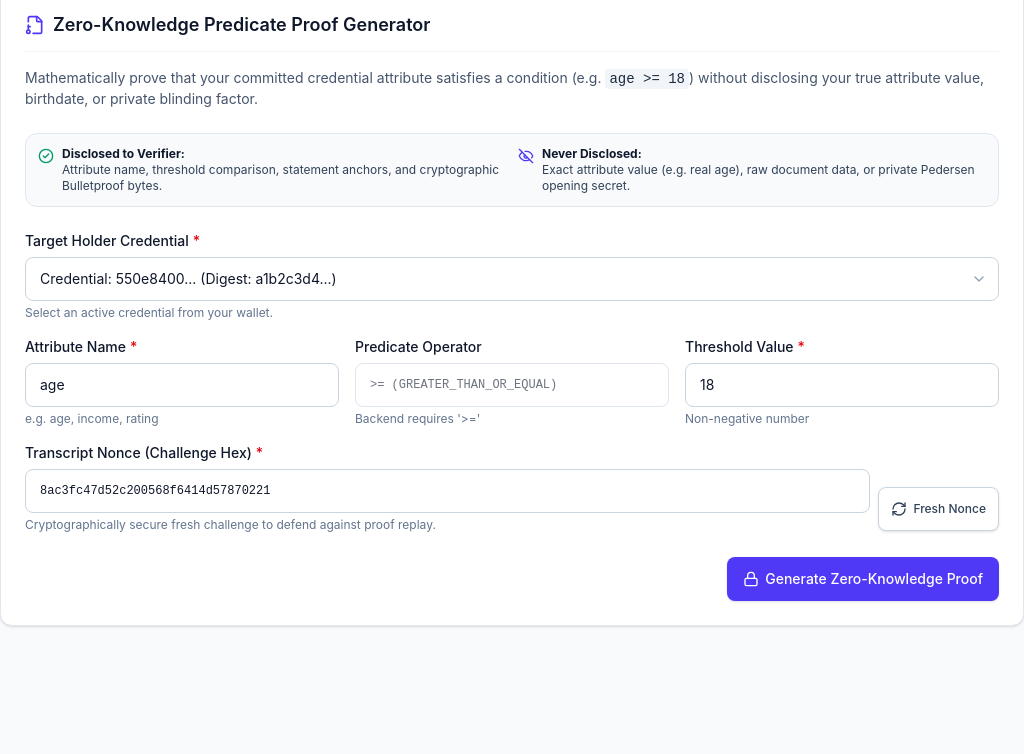
Holder Workflows & UI Components › PredicateProofGeneratorCard › generates zero-knowledge Bulletproof proof and displays artifact
Click the button "Generate Zero-Knowledge Proof".
click(863, 579)  # box [727,557,999,601]
(page scrolled)
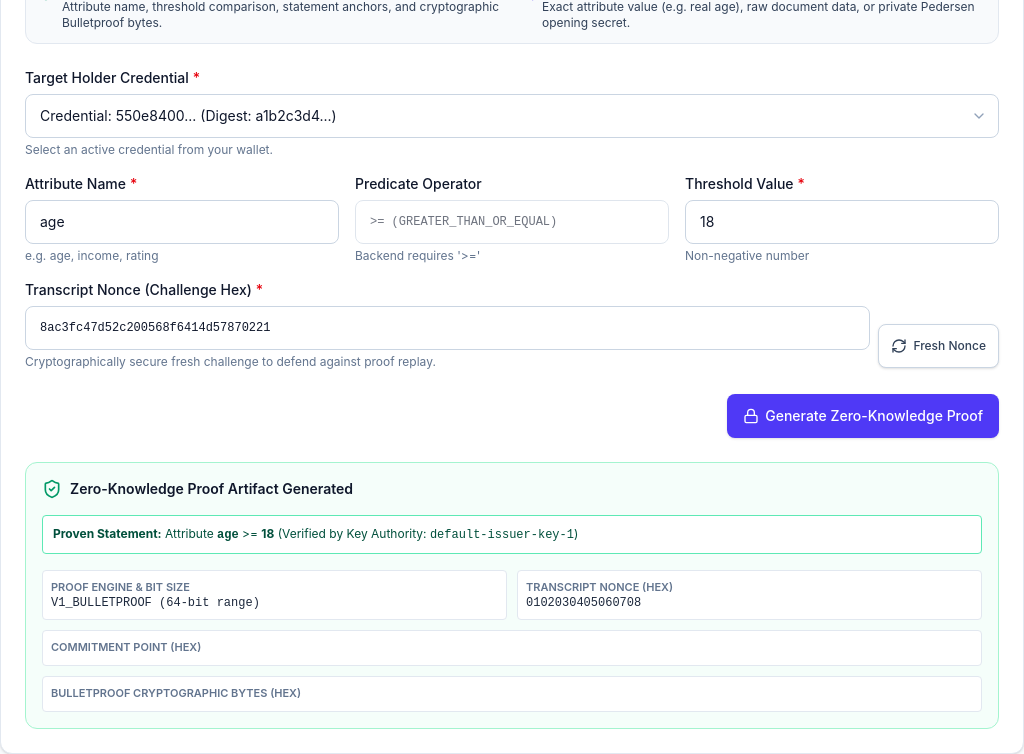
Expected: the heading "Zero-Knowledge Proof Artifact Generated" is shown, [70,479,353,499]
Expected: the text "V1_BULLETPROOF (64-bit range)" is shown, [51,596,260,610]
